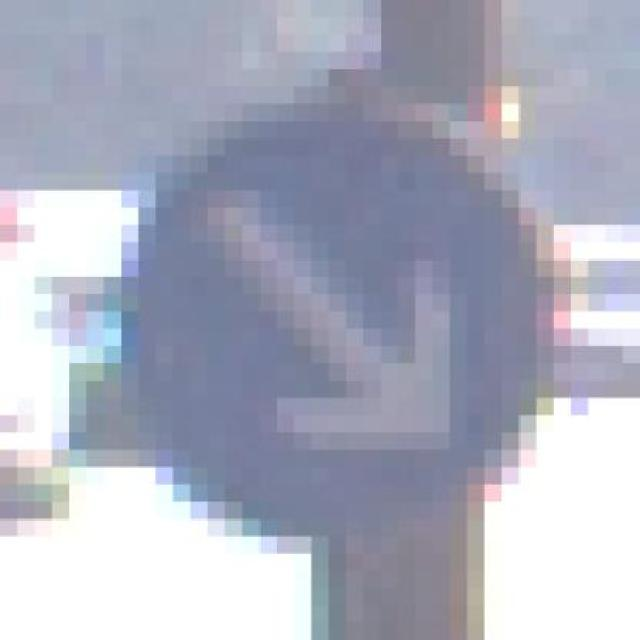Keep-Right: (69, 91, 606, 542)
